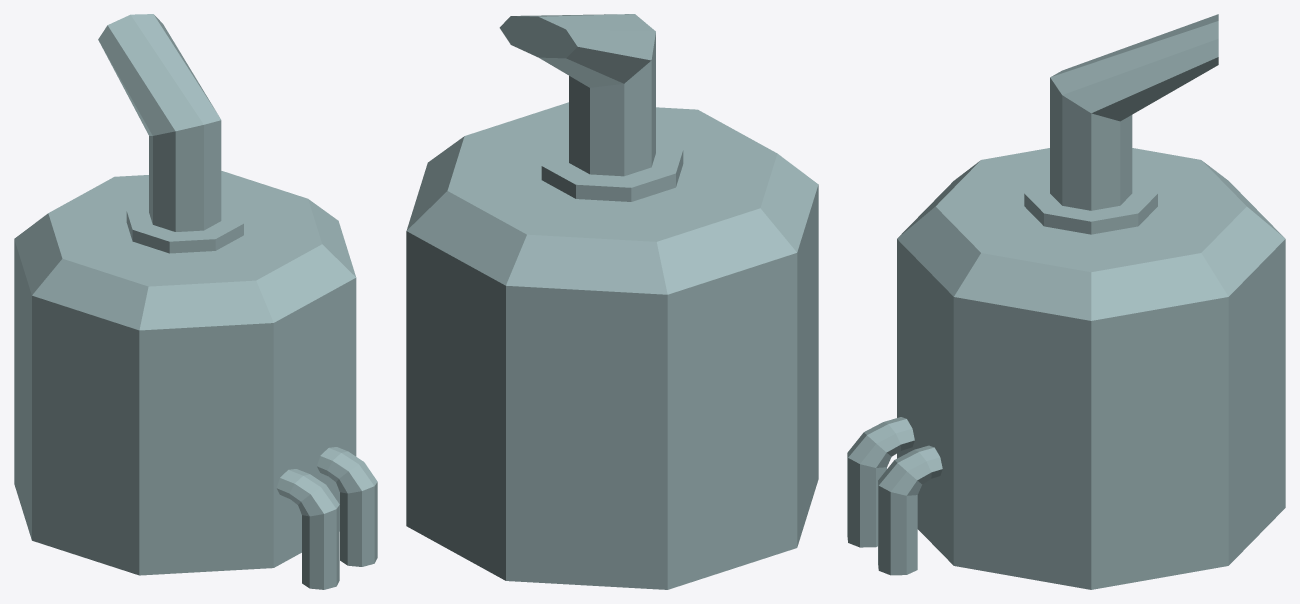
File: boiler.fbx
3 views of the same model, side by side, from view 1: azimuth 30°, elevation 25°; view 2: azimuth 150°, elevation 25°; view 3: azimuth 270°, elevation 25° (orthographic). The views are drawn at different scales.
Parts seen in each view (by area): view 1: Cylinder.004; view 2: Cylinder.004; view 3: Cylinder.004.
Boxes of the visible parts, <box> form: Cylinder.004: <box>14,14,377,589</box>; Cylinder.004: <box>406,14,818,589</box>; Cylinder.004: <box>847,14,1285,589</box>.
Size of the model in its own units: 200 by 285 by 225.
